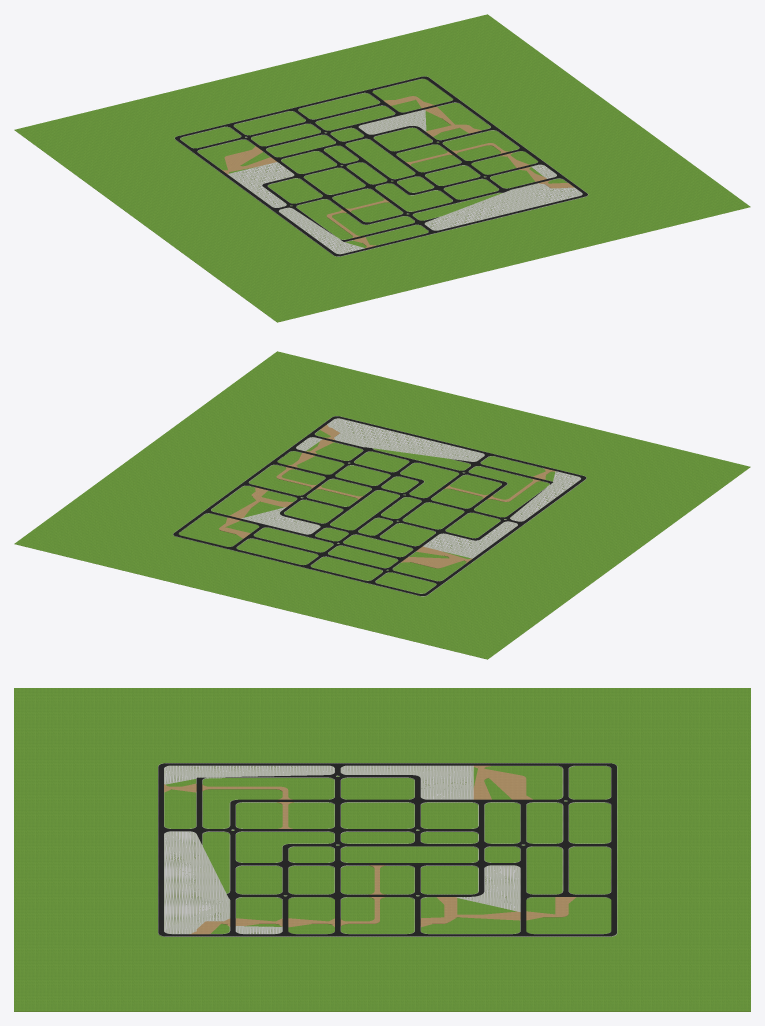
Rendered from MERTYOLLAR.fbx.
3 views of the same model, one above another, from view 1: azimuth 30°, elevation 25°; view 2: azimuth 150°, elevation 25°; view 3: azimuth 270°, elevation 25° (orthographic). The views are drawn at different scales.
Parts seen in each view (by area): view 1: MERTYEŞİLALAN, MERTYOLLAR; view 2: MERTYEŞİLALAN, MERTYOLLAR; view 3: MERTYEŞİLALAN, MERTYOLLAR.
Boxes of the visible parts, x1,y1,x2,y2 form: MERTYEŞİLALAN: [14, 14, 750, 322]; MERTYOLLAR: [174, 76, 588, 256]; MERTYEŞİLALAN: [14, 351, 750, 659]; MERTYOLLAR: [173, 416, 586, 596]; MERTYEŞİLALAN: [14, 688, 750, 1011]; MERTYOLLAR: [158, 763, 617, 936].
Bounding box in the file's own units: 38622 × 43.31 × 37179.
5 materials, 5 textured.
